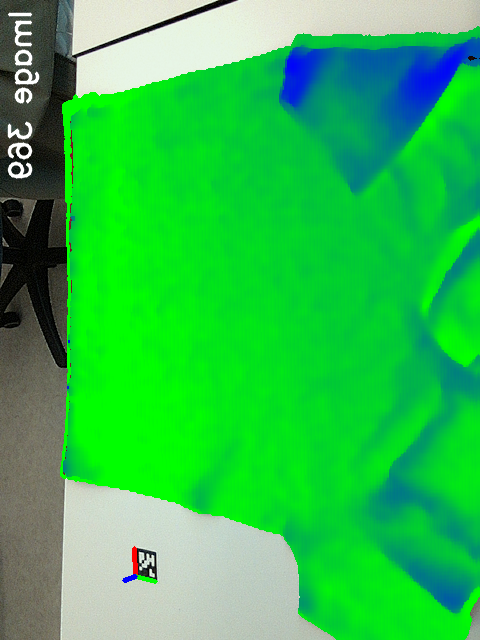V: (372, 441, 434, 497), (323, 165, 382, 200)
